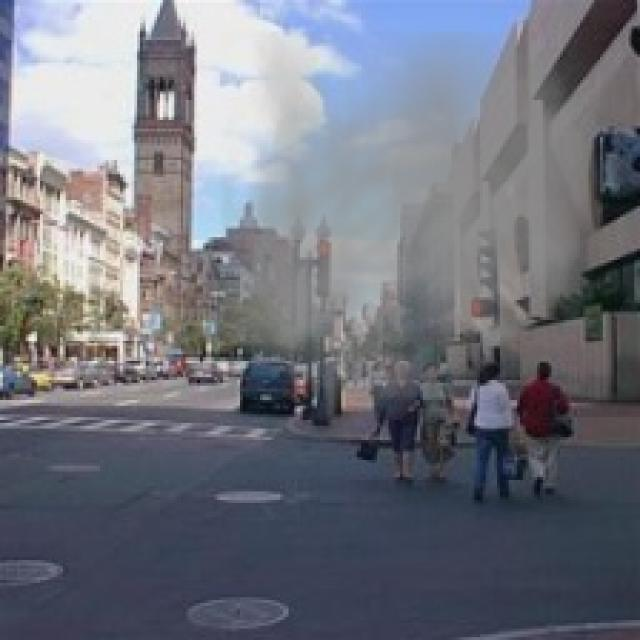smoke: (214, 32, 609, 434)
